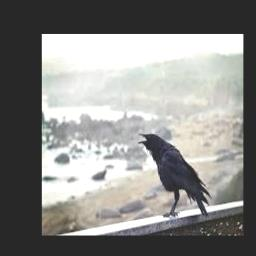Crow: (137, 132, 212, 219)
